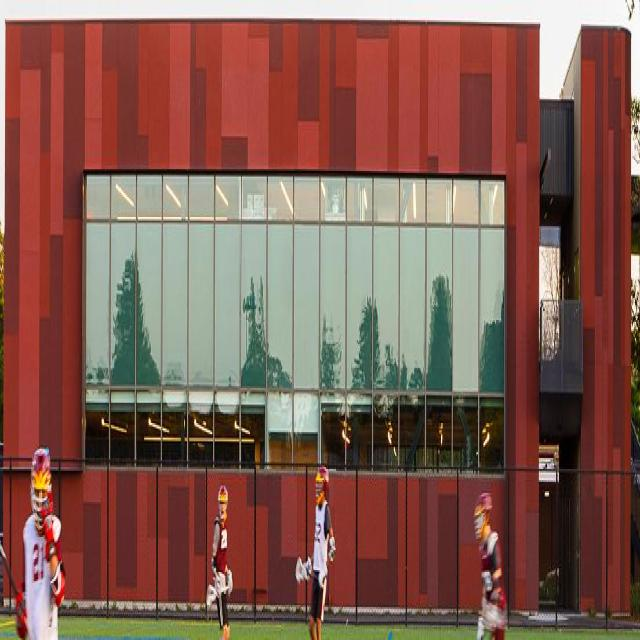Railing: (540, 303, 581, 391)
wall: (2, 23, 630, 627)
windows: (83, 168, 505, 469), (538, 226, 561, 301)
